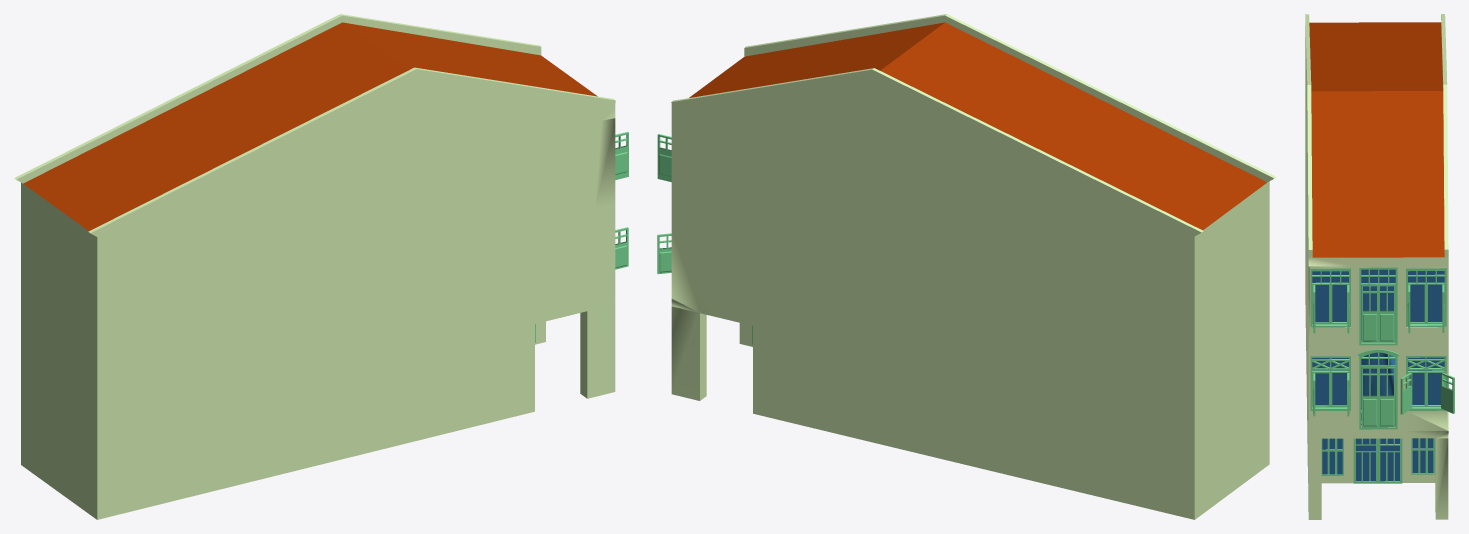
Rendered from green house.fbx.
The picture shows the model from 3 angles, left to right: view 1: azimuth 30°, elevation 25°; view 2: azimuth 150°, elevation 25°; view 3: azimuth 270°, elevation 25°; orthographic projection. The views are drawn at different scales.
Parts seen in each view (by area): view 1: green house; view 2: green house; view 3: green house.
Boxes of the visible parts, x1=… form: green house: x1=14, y1=14, x2=628, y2=519; green house: x1=657, y1=14, x2=1275, y2=519; green house: x1=1305, y1=14, x2=1454, y2=519.
Size of the model in its own units: 1605 by 1049 by 413.
